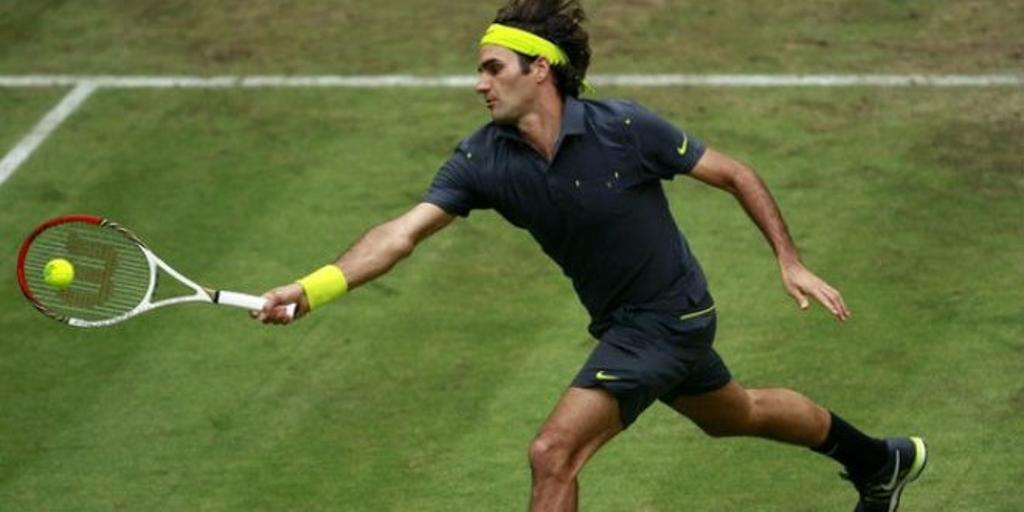face: (472, 44, 532, 124)
